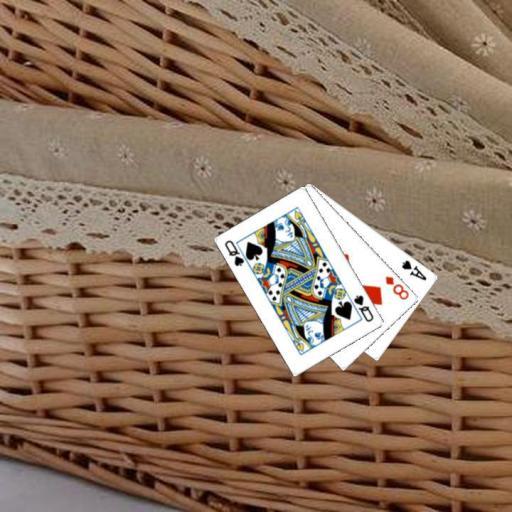8D: (382, 273, 411, 302)
AS: (399, 257, 428, 282)
QS: (351, 292, 376, 324), (222, 237, 246, 268)
